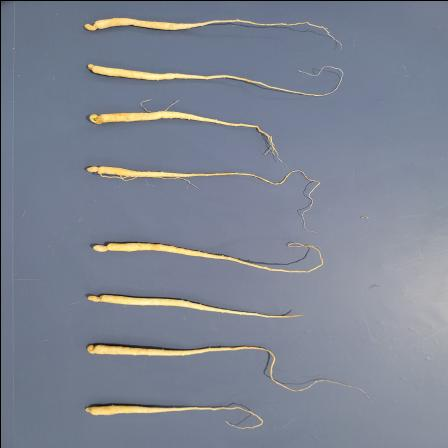Ginseng: (83, 162, 318, 233), (84, 340, 368, 396), (84, 106, 284, 162), (84, 58, 346, 97), (81, 13, 345, 49), (89, 238, 326, 274), (79, 290, 304, 320), (80, 402, 264, 430)
head: (82, 18, 100, 30), (88, 111, 104, 124), (86, 292, 106, 302), (92, 242, 112, 252), (84, 164, 104, 174), (84, 403, 96, 415), (86, 344, 100, 354), (86, 62, 96, 72)
